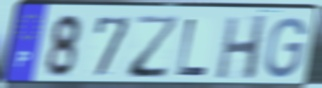7: (92, 15, 133, 79)
8: (44, 13, 85, 80)
G: (263, 15, 308, 80)
H: (214, 13, 269, 82)
L: (174, 16, 210, 78)
Z: (127, 14, 182, 80)
